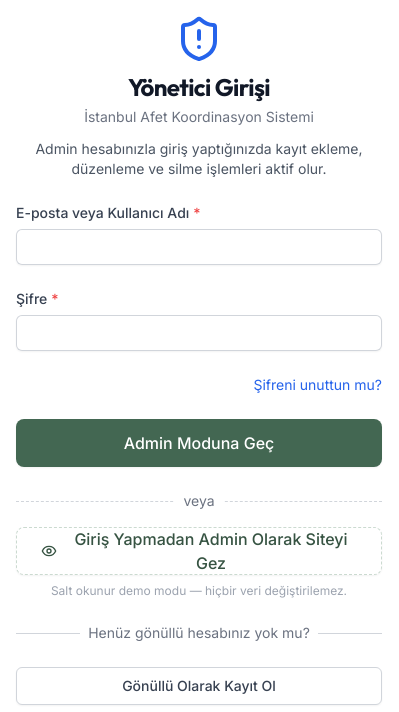
Test case: Admin mode login › rejects a valid login that has no administrator role
The image size is (399, 712).
Type "admin@example.test" into the field.
click(199, 247); type("admin@example.test")  # box [16,229,382,265]
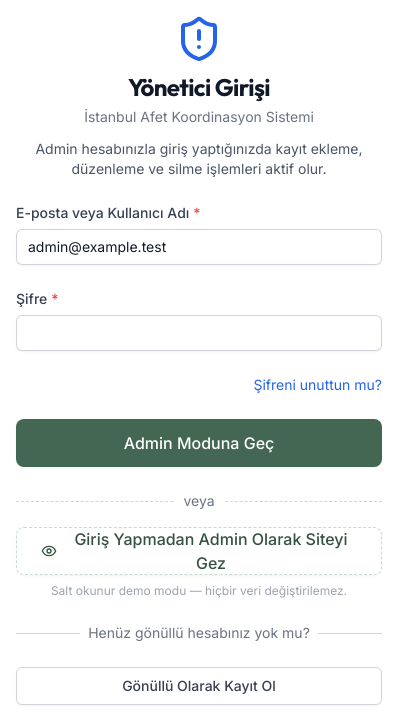
Type "test-password" into the password field labelled "Şifre*".
click(199, 333); type("test-password")  # box [16,315,382,351]
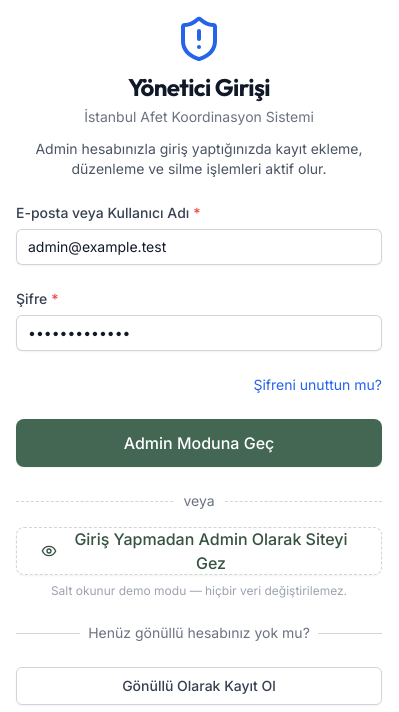
Click the button "Admin Moduna Geç".
click(199, 443)  # box [16,419,382,467]
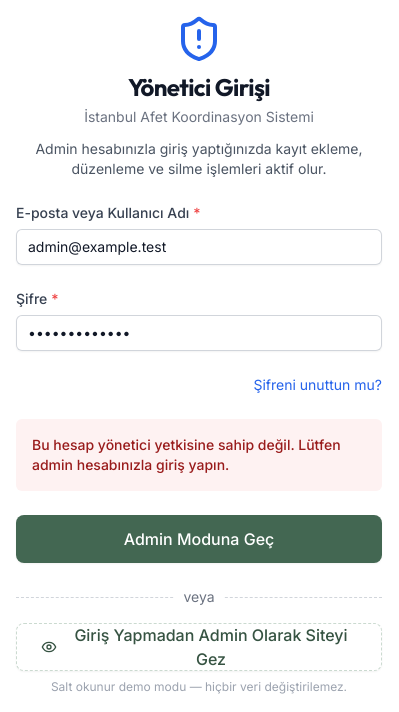
Result: the text "Bu hesap yönetici yetkisine sahip değil" is shown at [32,436,341,473]
